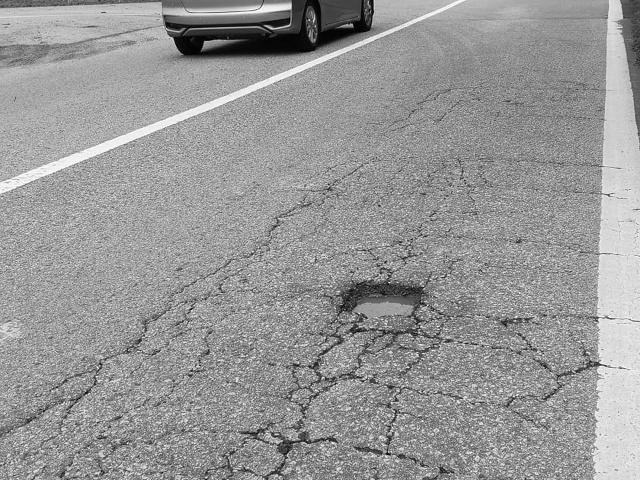Pothole: (338, 278, 422, 322)
